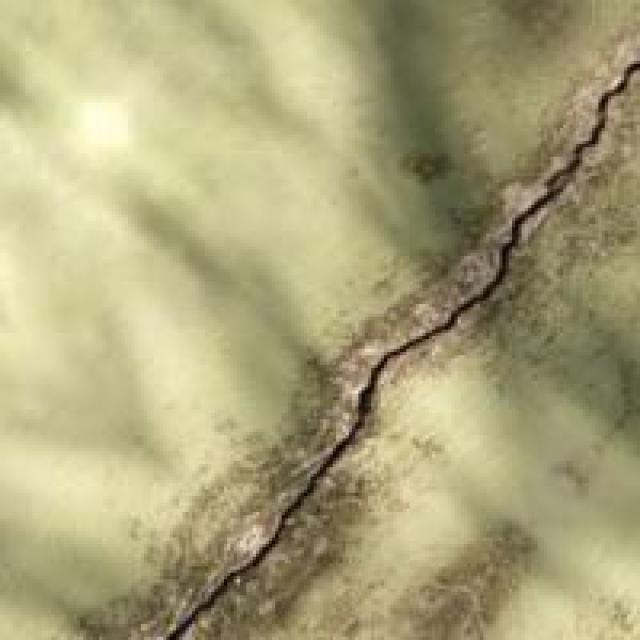Crack: (48, 48, 637, 637)
